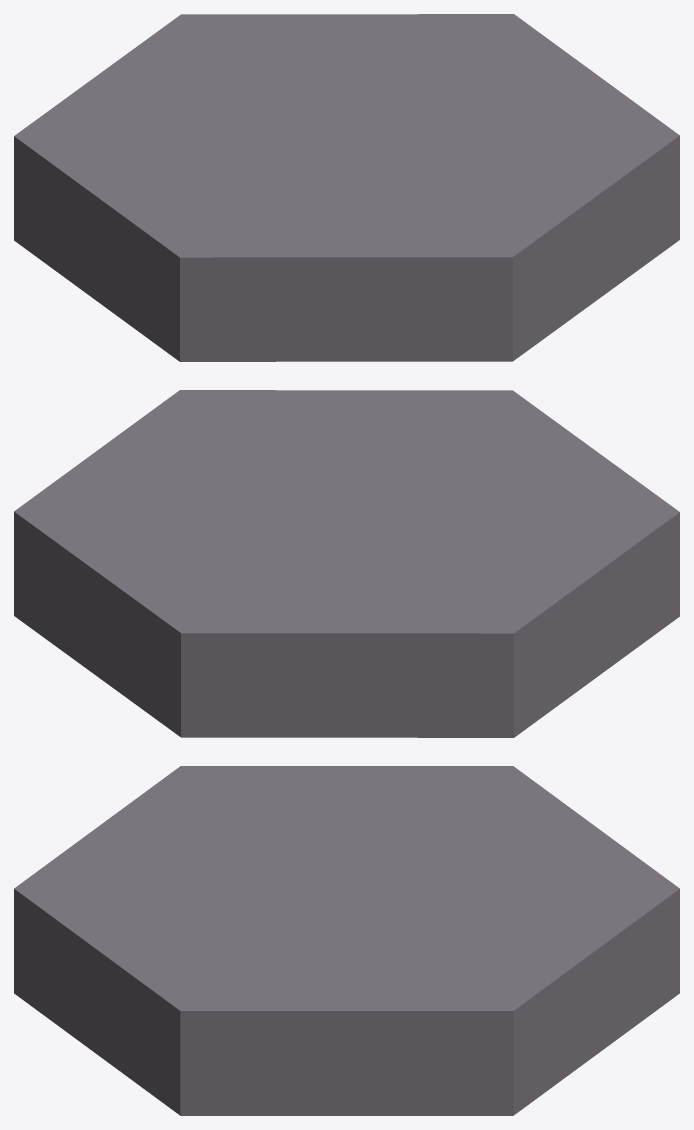
File: Hex24.fbx
3 views of the same model, one above another, from view 1: azimuth 30°, elevation 25°; view 2: azimuth 150°, elevation 25°; view 3: azimuth 270°, elevation 25° (orthographic).
Visible parts, largest first — view 1: Hex24; view 2: Hex24; view 3: Hex24.
Boxes of the visible parts, x1,y1,x2,y2 form: Hex24: (14, 14, 679, 361); Hex24: (14, 390, 679, 737); Hex24: (14, 766, 679, 1115).
Bounding box in the file's own units: 1 × 0.2003 × 1.15.
